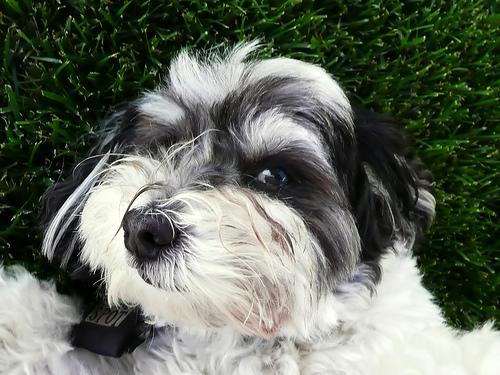dog: (42, 56, 421, 321)
